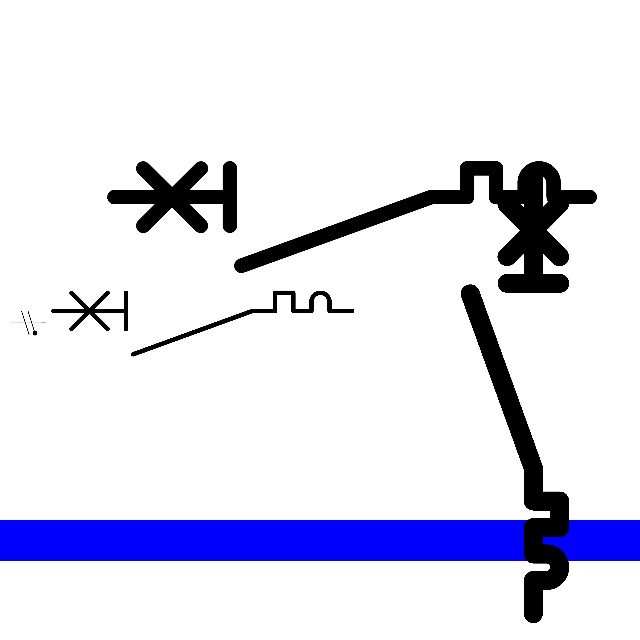interruptor_termomagnetico: (102, 156, 602, 278), (459, 166, 571, 625), (45, 285, 359, 362)
